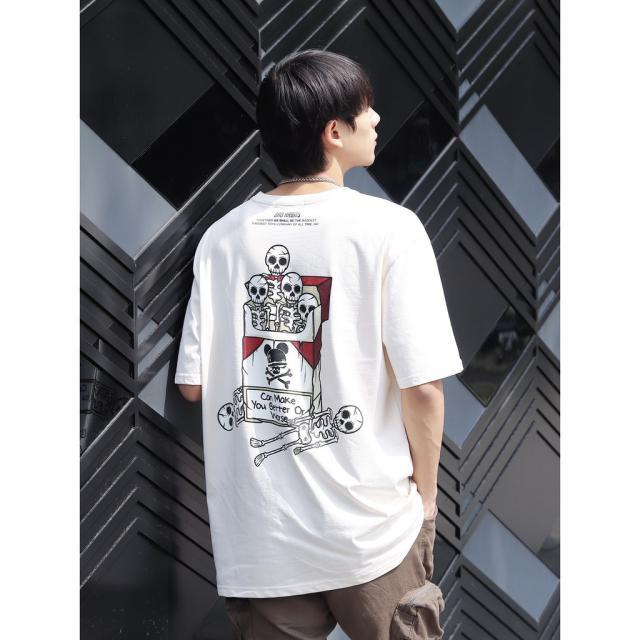Shirt: (165, 190, 468, 604)
